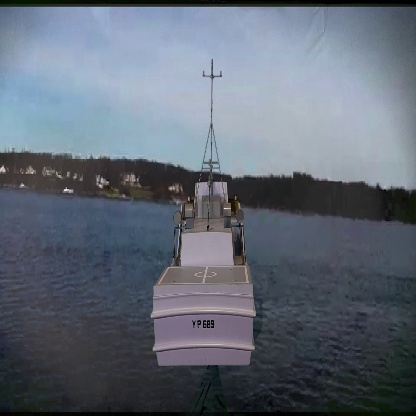YP689: (153, 52, 259, 368)
